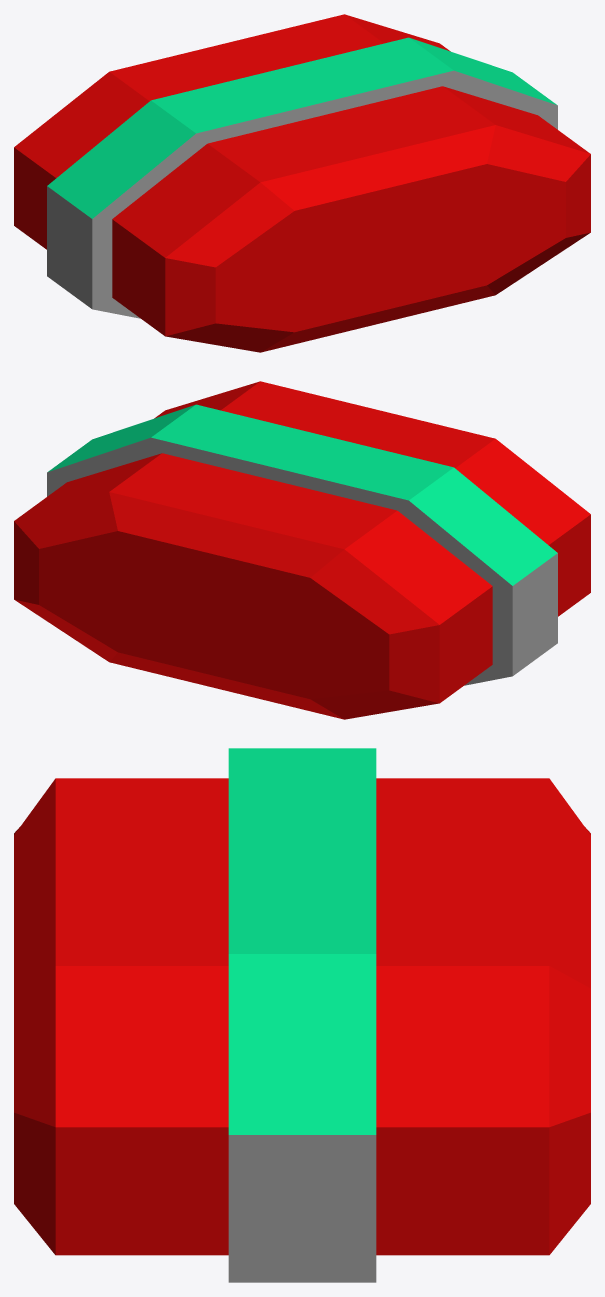
The model's file is SM_FrigateHeatsink.fbx.
The picture shows the model from 3 angles, top to bottom: view 1: azimuth 30°, elevation 25°; view 2: azimuth 150°, elevation 25°; view 3: azimuth 270°, elevation 25°; orthographic projection. The views are drawn at different scales.
Visible parts, largest first — view 1: polySurface32; view 2: polySurface32; view 3: polySurface32.
Part boxes in pixels (x1,y1,x2,y2): polySurface32: [14, 14, 590, 352]; polySurface32: [14, 381, 590, 719]; polySurface32: [14, 748, 590, 1282].
Size of the model in its own units: 1522 by 612 by 1000.
